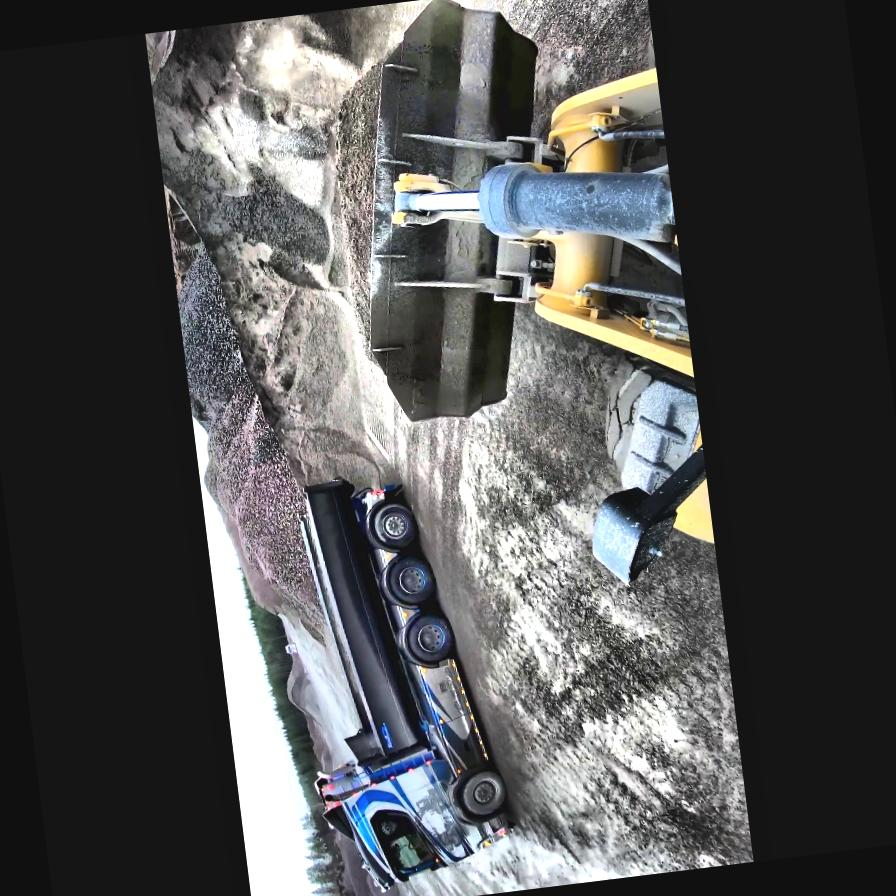anchor: (384, 163, 483, 234)
pile of gravel: (144, 4, 440, 429), (187, 363, 328, 658), (170, 252, 246, 423), (327, 821, 394, 896), (280, 652, 323, 742), (144, 28, 196, 66)
